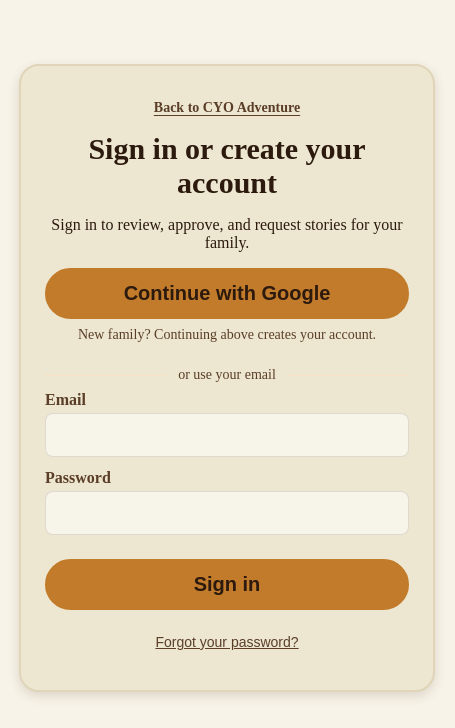
LoginPage forgot-password request › reveals the reset-request field when "Forgot your password?" is clicked
The width and height of the screenshot is (455, 728).
Check: the field labelled "Email for reset link" is not shown
Click the button "Forgot your password?".
click(227, 642)  # box [45,626,409,658]
(page scrolled)
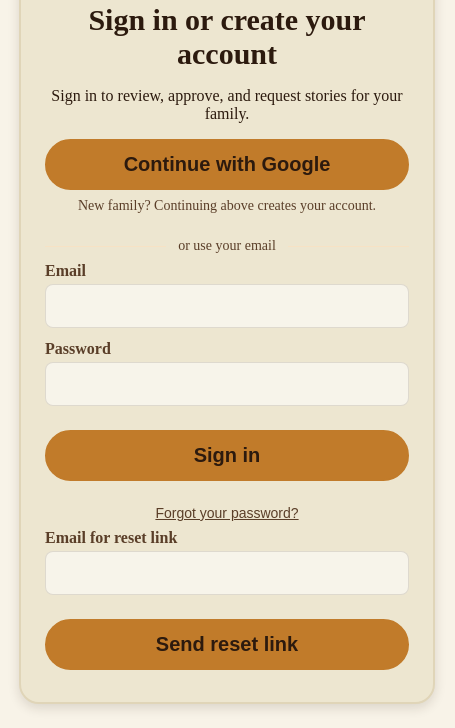
Check: the field labelled "Email for reset link" is shown, box [45,551,409,595]
Check: the button "Send reset link" is shown, box [45,619,409,670]
